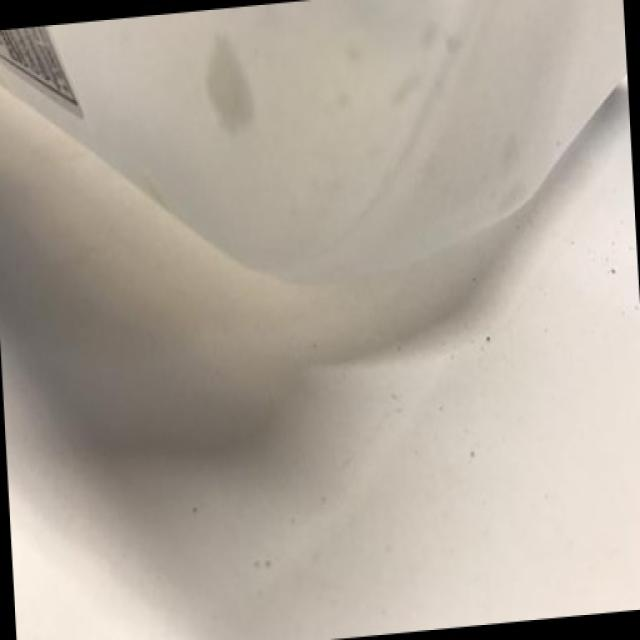plastico: (6, 18, 640, 603)
